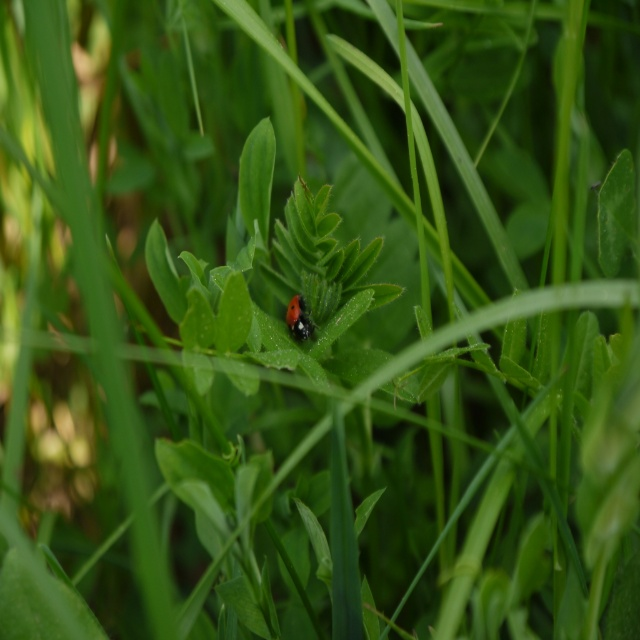Ladybug: (285, 296, 320, 342)
